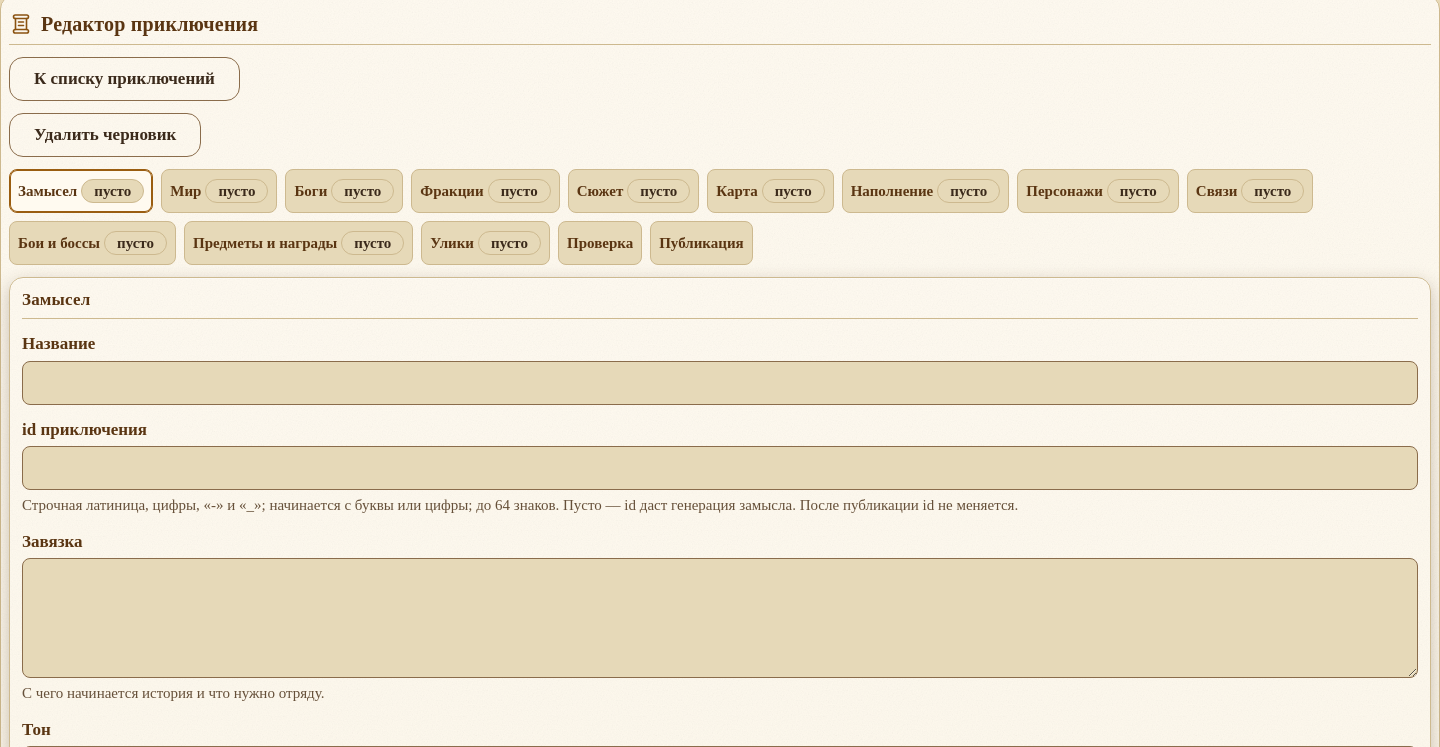
шаг «Персонажи» › персонажи из черновика: поля, где находится и статблок
Click the button "Персонажи пусто" at (1098, 191), box [1017,169,1179,213]
(page scrolled)
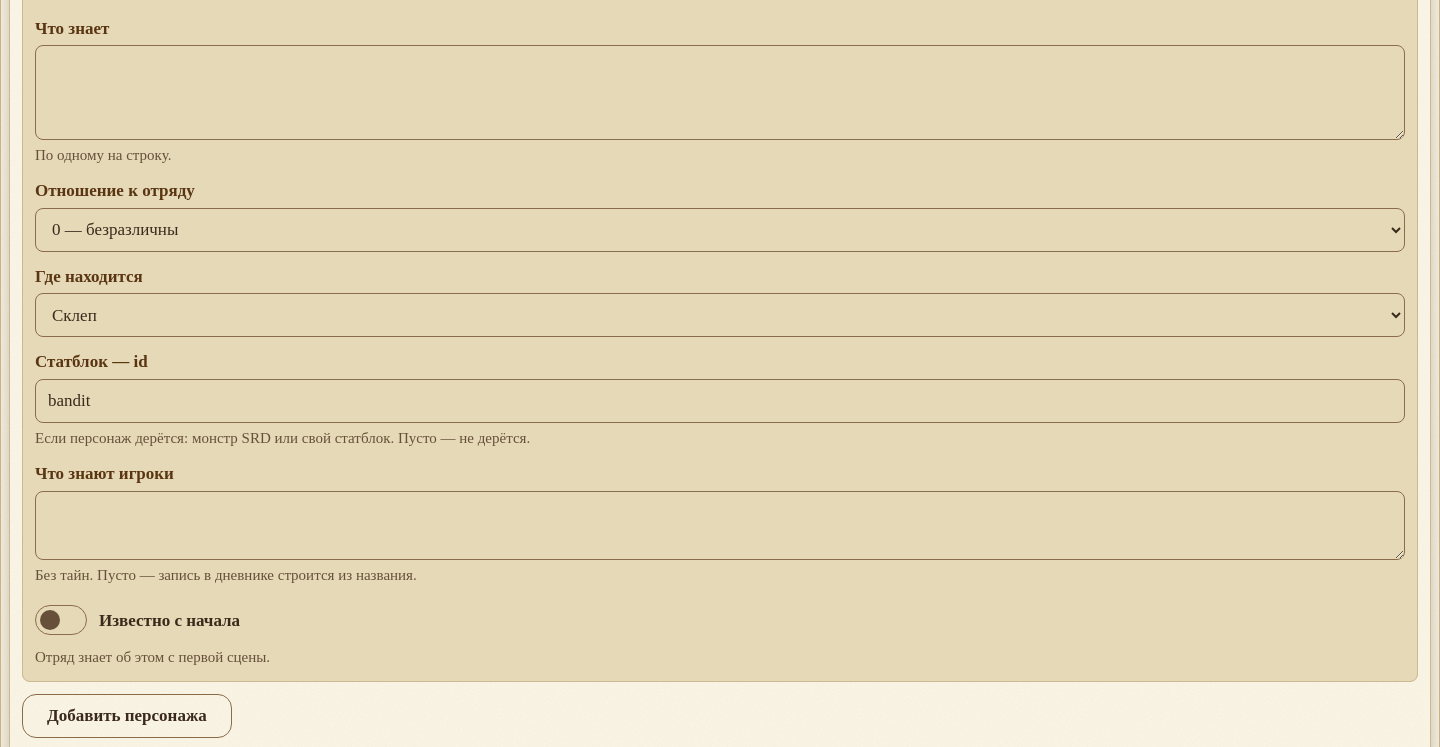
Expected: the dropdown labelled "Где находится" shows "Склеп", [35,293,1405,337]
Expected: the field labelled "Статблок — id" holds "bandit", [35,379,1405,423]
